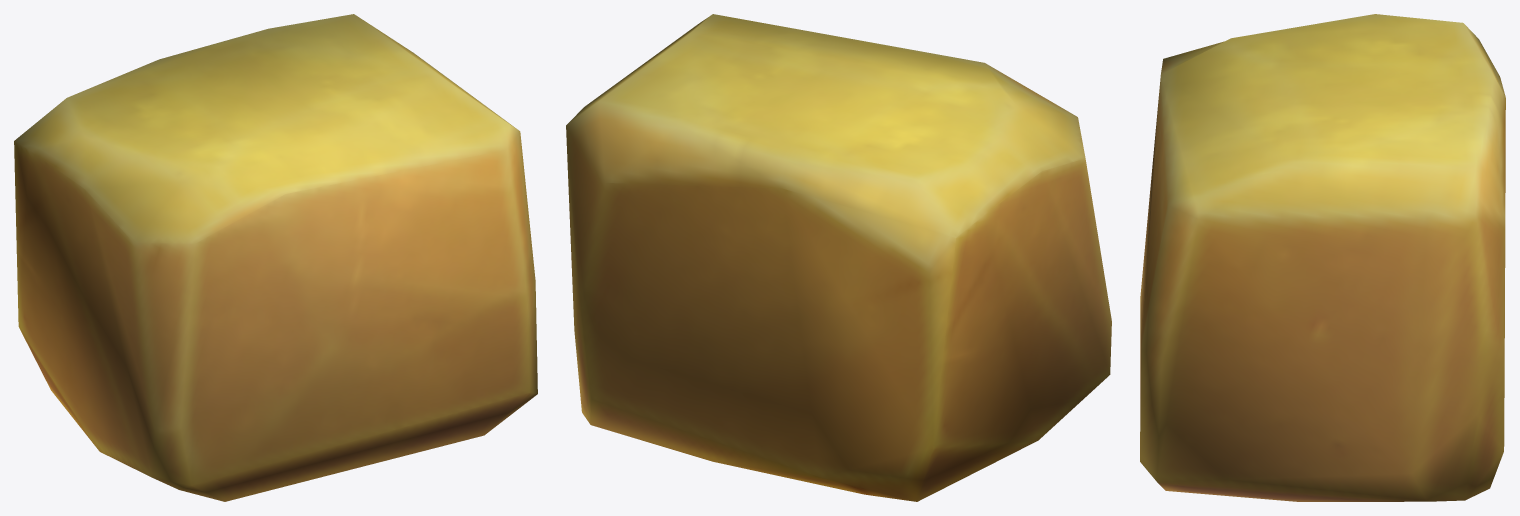
Rendered from SM_Gem_Gold_Piece_001.fbx.
3 views of the same model, side by side, from view 1: azimuth 30°, elevation 25°; view 2: azimuth 150°, elevation 25°; view 3: azimuth 270°, elevation 25° (orthographic). The views are drawn at different scales.
Visible parts, largest first — view 1: SM_Gem_Gold_Piece_001; view 2: SM_Gem_Gold_Piece_001; view 3: SM_Gem_Gold_Piece_001.
Boxes of the visible parts, left/top/right/bottom form: SM_Gem_Gold_Piece_001: left=14, top=14, right=537, bottom=501; SM_Gem_Gold_Piece_001: left=566, top=14, right=1111, bottom=501; SM_Gem_Gold_Piece_001: left=1140, top=14, right=1505, bottom=501.
Bounding box in the file's own units: 15.51 × 12.3 × 12.1.
